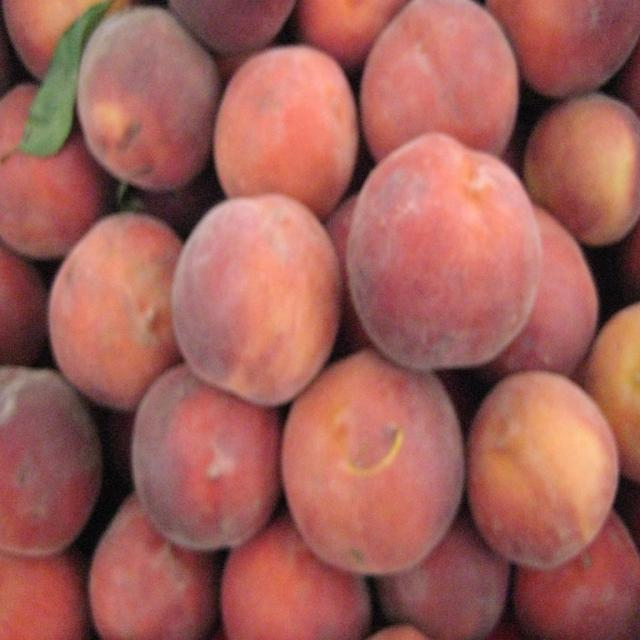Peach: (0, 0, 639, 639), (164, 188, 343, 406)
